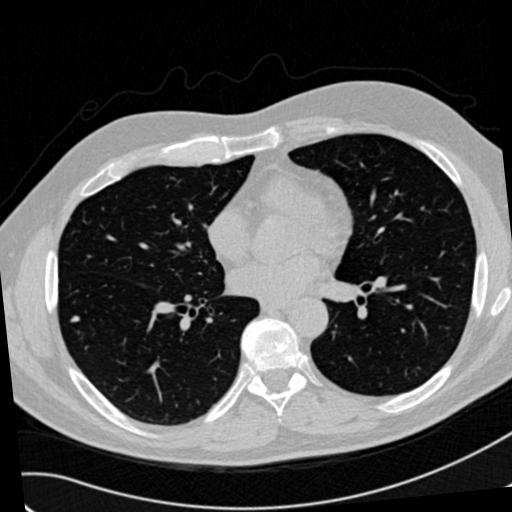nodule: (69, 313, 83, 327)
